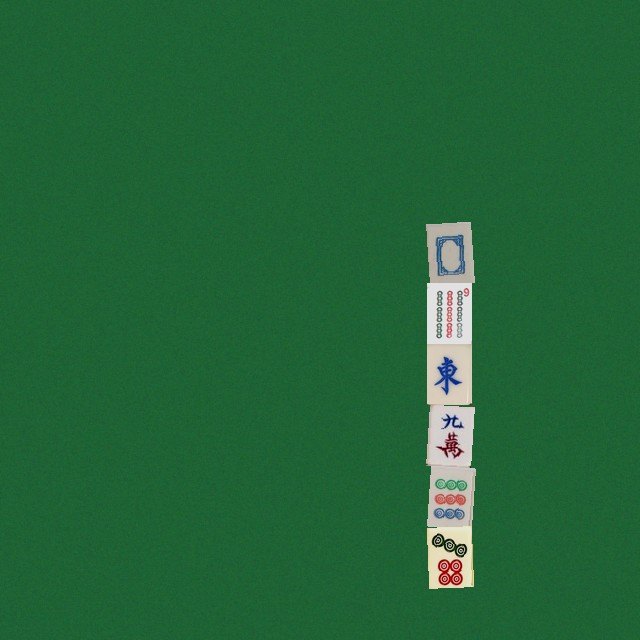tile: (426, 221, 471, 282), (426, 282, 471, 343), (426, 343, 471, 404), (426, 404, 471, 465), (426, 465, 471, 526), (426, 526, 471, 587)
